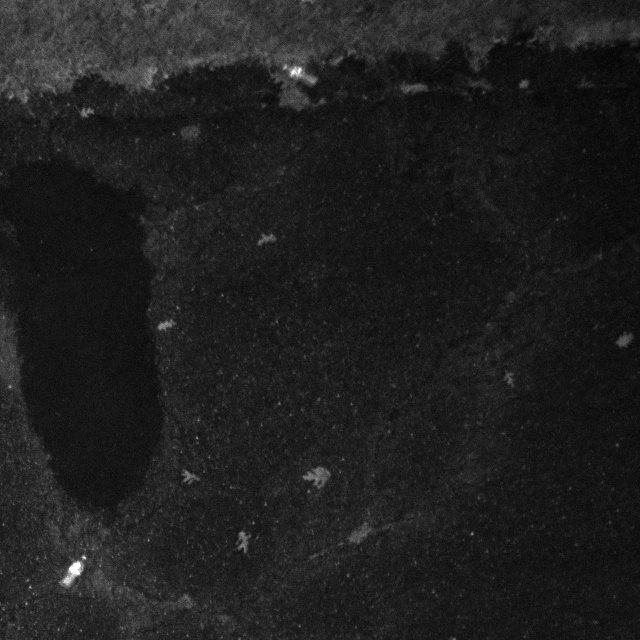bottle: (60, 547, 94, 595)
